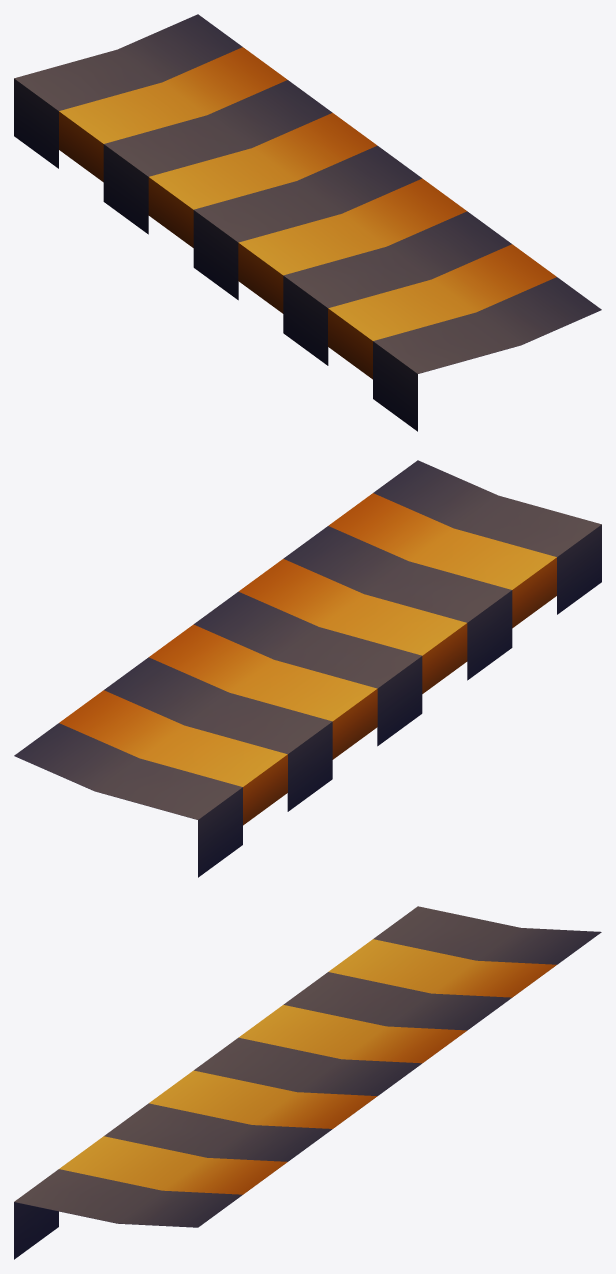
Rendered from TSP_Canopy_01C.fbx.
The picture shows the model from 3 angles, top to bottom: view 1: azimuth 30°, elevation 25°; view 2: azimuth 150°, elevation 25°; view 3: azimuth 330°, elevation 25°; orthographic projection.
Visible parts, largest first — view 1: TSP_Canopy_01C; view 2: TSP_Canopy_01C; view 3: TSP_Canopy_01C.
Boxes of the visible parts, x1,y1,x2,y2 form: TSP_Canopy_01C: (14, 14, 601, 431); TSP_Canopy_01C: (14, 460, 601, 877); TSP_Canopy_01C: (14, 906, 601, 1259).
Size of the model in its own units: 1 by 0.4 by 3.8.
